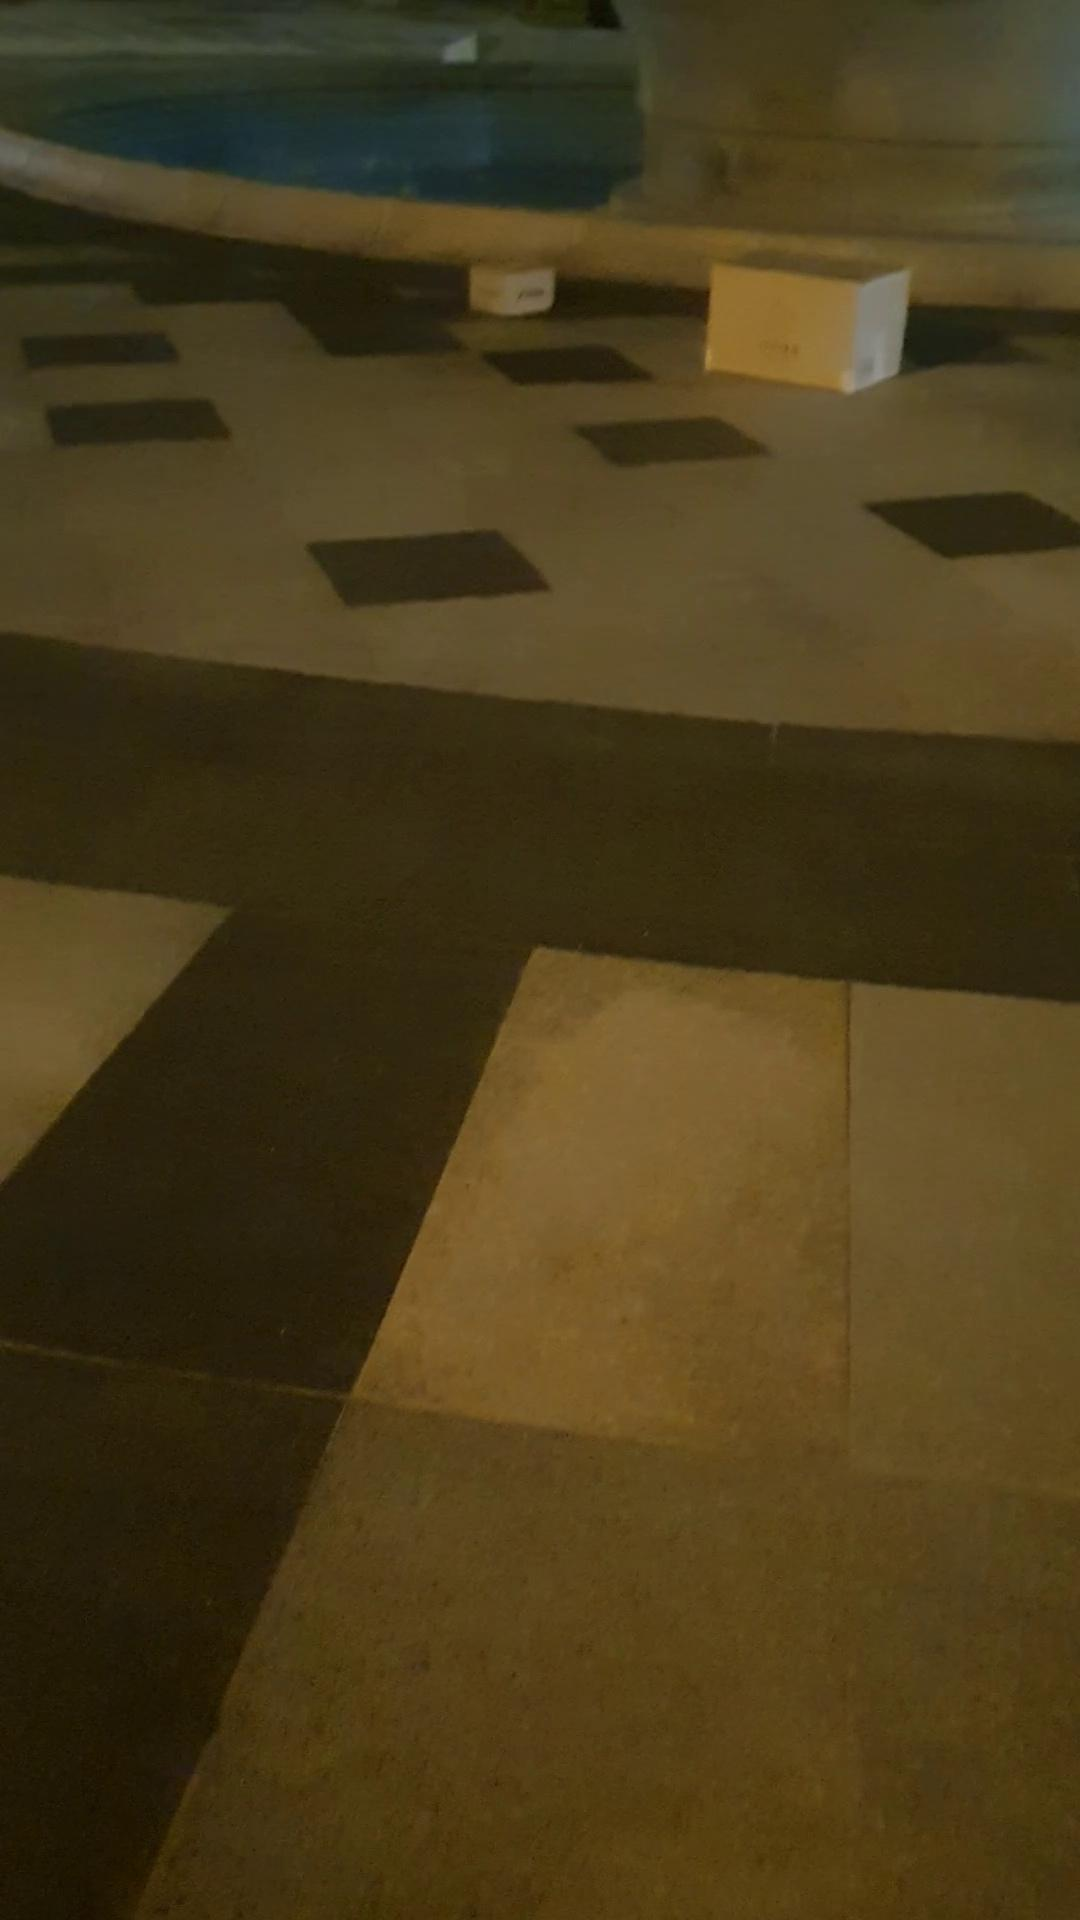Box: (694, 248, 909, 407), (471, 248, 549, 324)
